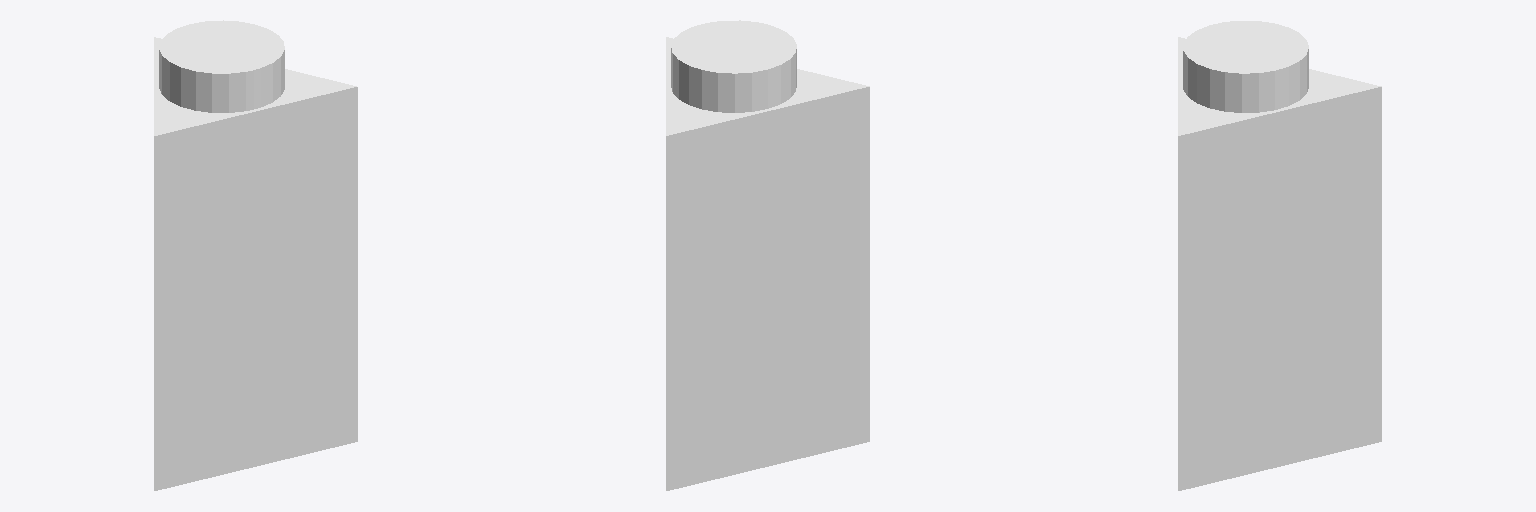
The robot description file, URDF, robot "triangle2":
<?xml version="1.0" encoding="utf-8"?>
<!-- This URDF was automatically created by SolidWorks to URDF Exporter! Originally created by Stephen Brawner (brawner@gmail.com) 
     Commit Version: 1.6.0-4-g7f85cfe  Build Version: 1.6.7995.38578
     For more information, please see http://wiki.ros.org/sw_urdf_exporter -->
<robot
  name="triangle2">
  <link
    name="base_link">
    <inertial>
      <origin
        xyz="2.66411113095566E-18 0.0236991649839012 0.000674062132963851"
        rpy="0 0 0" />
      <mass
        value="0.0149206757619702" />
      <inertia
        ixx="3.26440469252734E-06"
        ixy="1.18460490810512E-22"
        ixz="1.17639685366046E-22"
        iyy="8.79598609441658E-07"
        iyz="1.20605568921254E-08"
        izz="3.26406312616221E-06" />
    </inertial>
    <visual>
      <origin
        xyz="0 0 0"
        rpy="0 0 0" />
      <geometry>
        <mesh
          filename="package://triangle2/meshes/base_link.STL" />
      </geometry>
      <material
        name="">
        <color
          rgba="1 1 1 1" />
      </material>
    </visual>
    <collision>
      <origin
        xyz="0 0 0"
        rpy="0 0 0" />
      <geometry>
        <mesh
          filename="package://triangle2/meshes/base_link.STL" />
      </geometry>
    </collision>
  </link>
</robot>

--- Render facts (derived) ---
Views: 3 orthographic renders of the robot side by side, from view 1: azimuth 30°, elevation 25°; view 2: azimuth 150°, elevation 25°; view 3: azimuth 270°, elevation 25°.
Model triangle2 with 1 links and 0 joints (none), rooted at base_link, posed all joints at 0.
Visible links, largest first — view 1: base_link; view 2: base_link; view 3: base_link.
Boxes of the visible links, left/top/right/bottom form: base_link: left=154, top=20, right=357, bottom=490; base_link: left=666, top=20, right=869, bottom=490; base_link: left=1178, top=21, right=1381, bottom=490.
Size in the robot's own frame: 0.027 by 0.0234 by 0.05 metres.
1 mesh visuals loaded from 1 distinct referenced files (1 binary STL).
